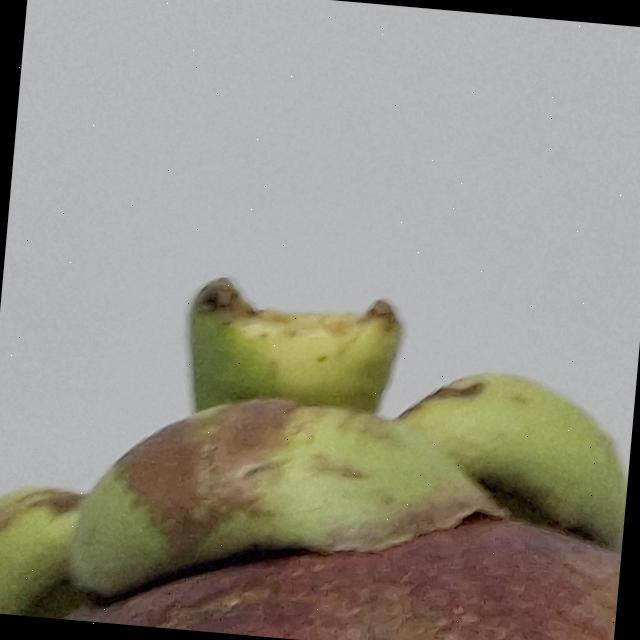mangosteen: (0, 182, 640, 640)
